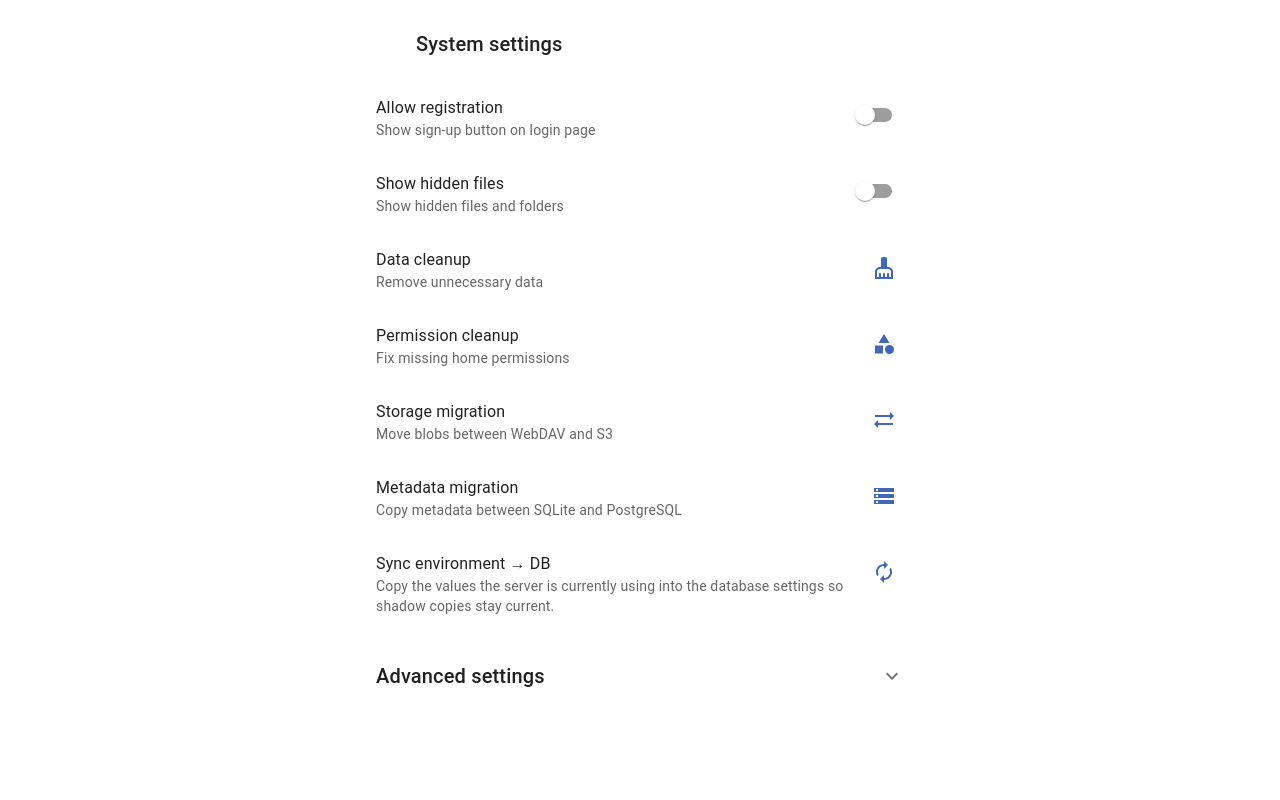
SystemSettingsContent › data cleanup escalates to warning severity when the cycle reports errors
The image size is (1280, 800).
Expected: the text "Data cleanup" is shown, top-left (376, 250), bottom-right (471, 269)
What coordinates should you click on to do the following:
click the button named "clean up"
I would click on:
 (884, 268)
Its box is top-left (864, 248), bottom-right (904, 288).
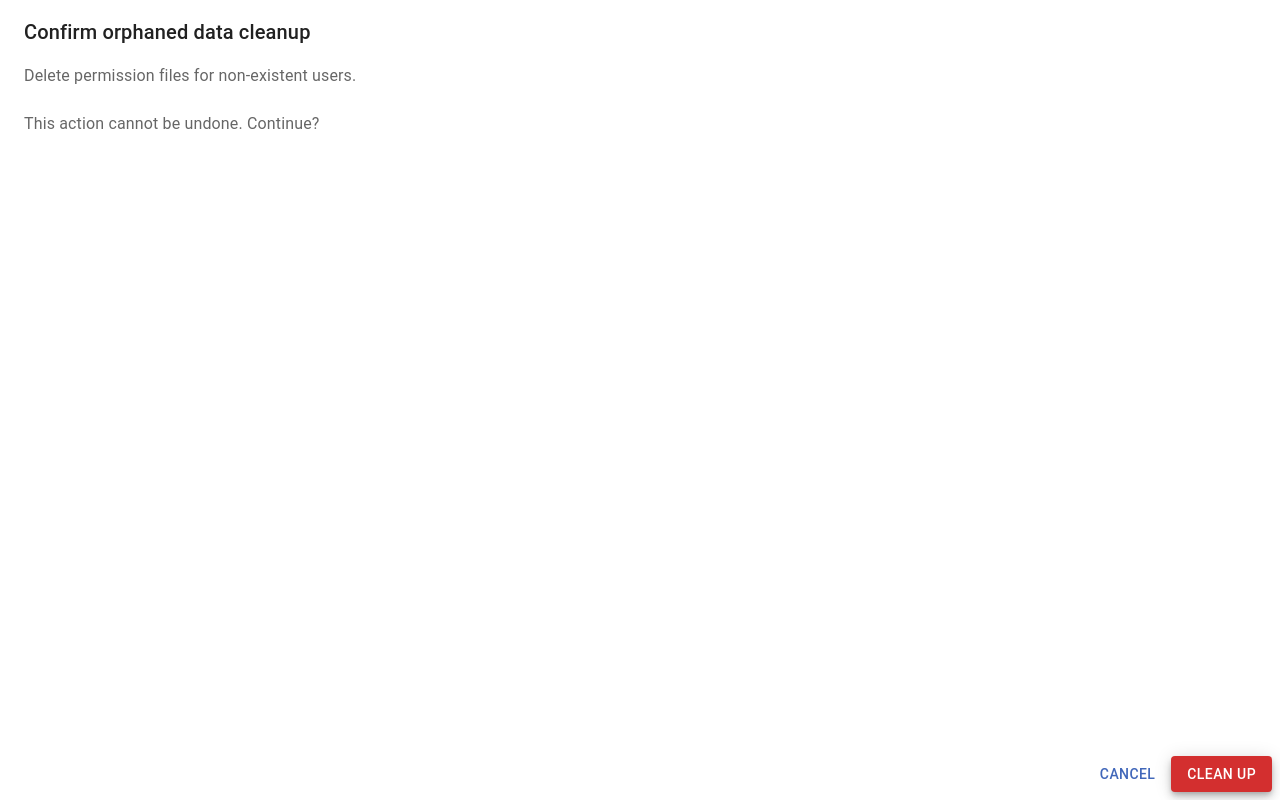
Expected: the dialog "Confirm orphaned data cleanup" is shown
Expected: the text "Delete permission files for non-existent users" is shown, top-left (24, 66), bottom-right (356, 85)
What coordinates should you click on to do the following:
click the button "Clean up"
I would click on:
 (1222, 774)
Its box is top-left (1171, 756), bottom-right (1272, 792).
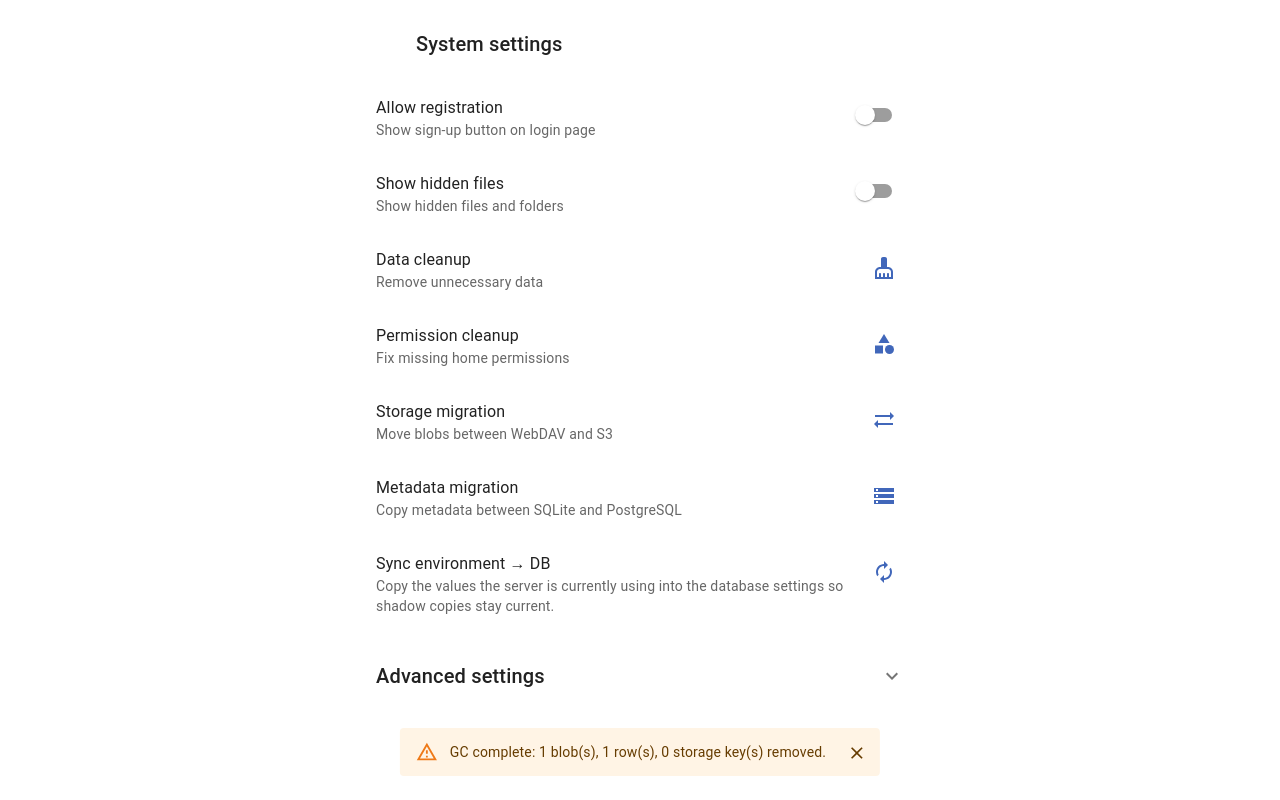
Expected: the text "GC complete: 1 blob(s), 1 row(s), 0 storage key(s) removed." is shown, top-left (450, 744), bottom-right (826, 760)
